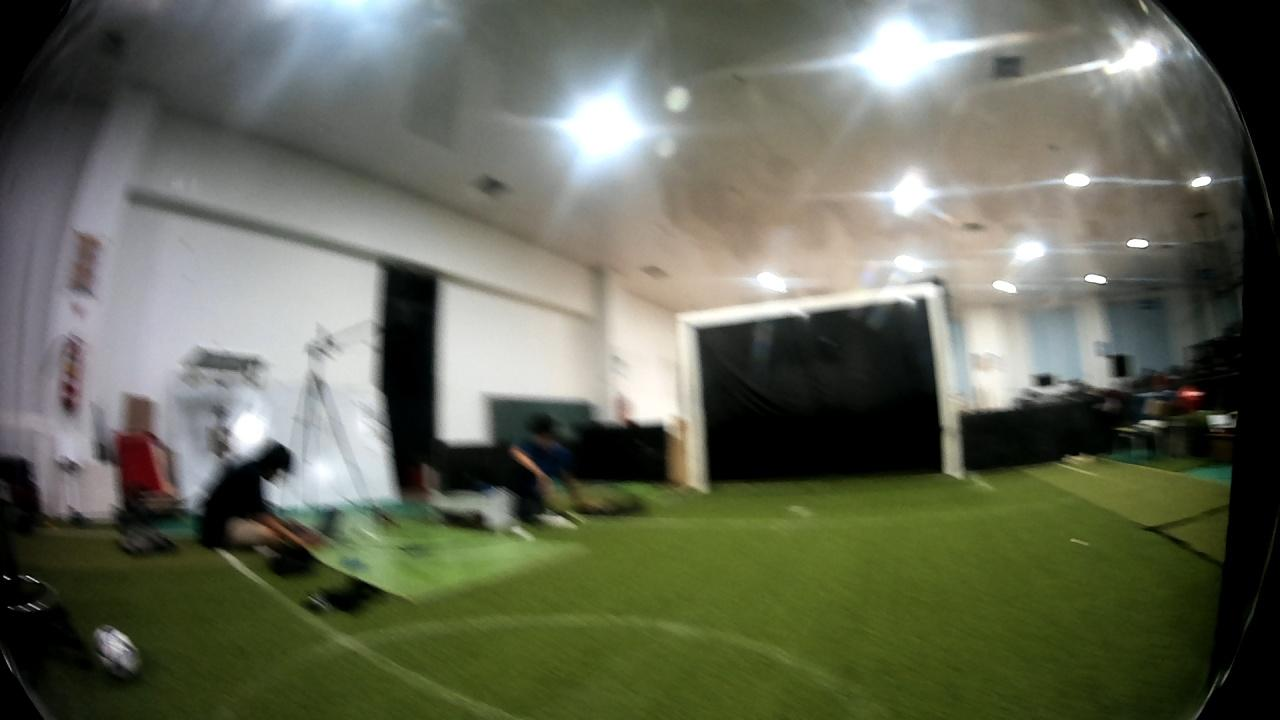ball: (89, 618, 144, 686)
